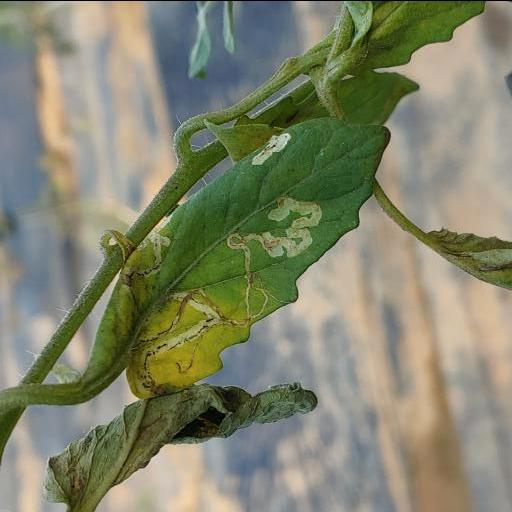Leaf Miner: (84, 115, 391, 399)
